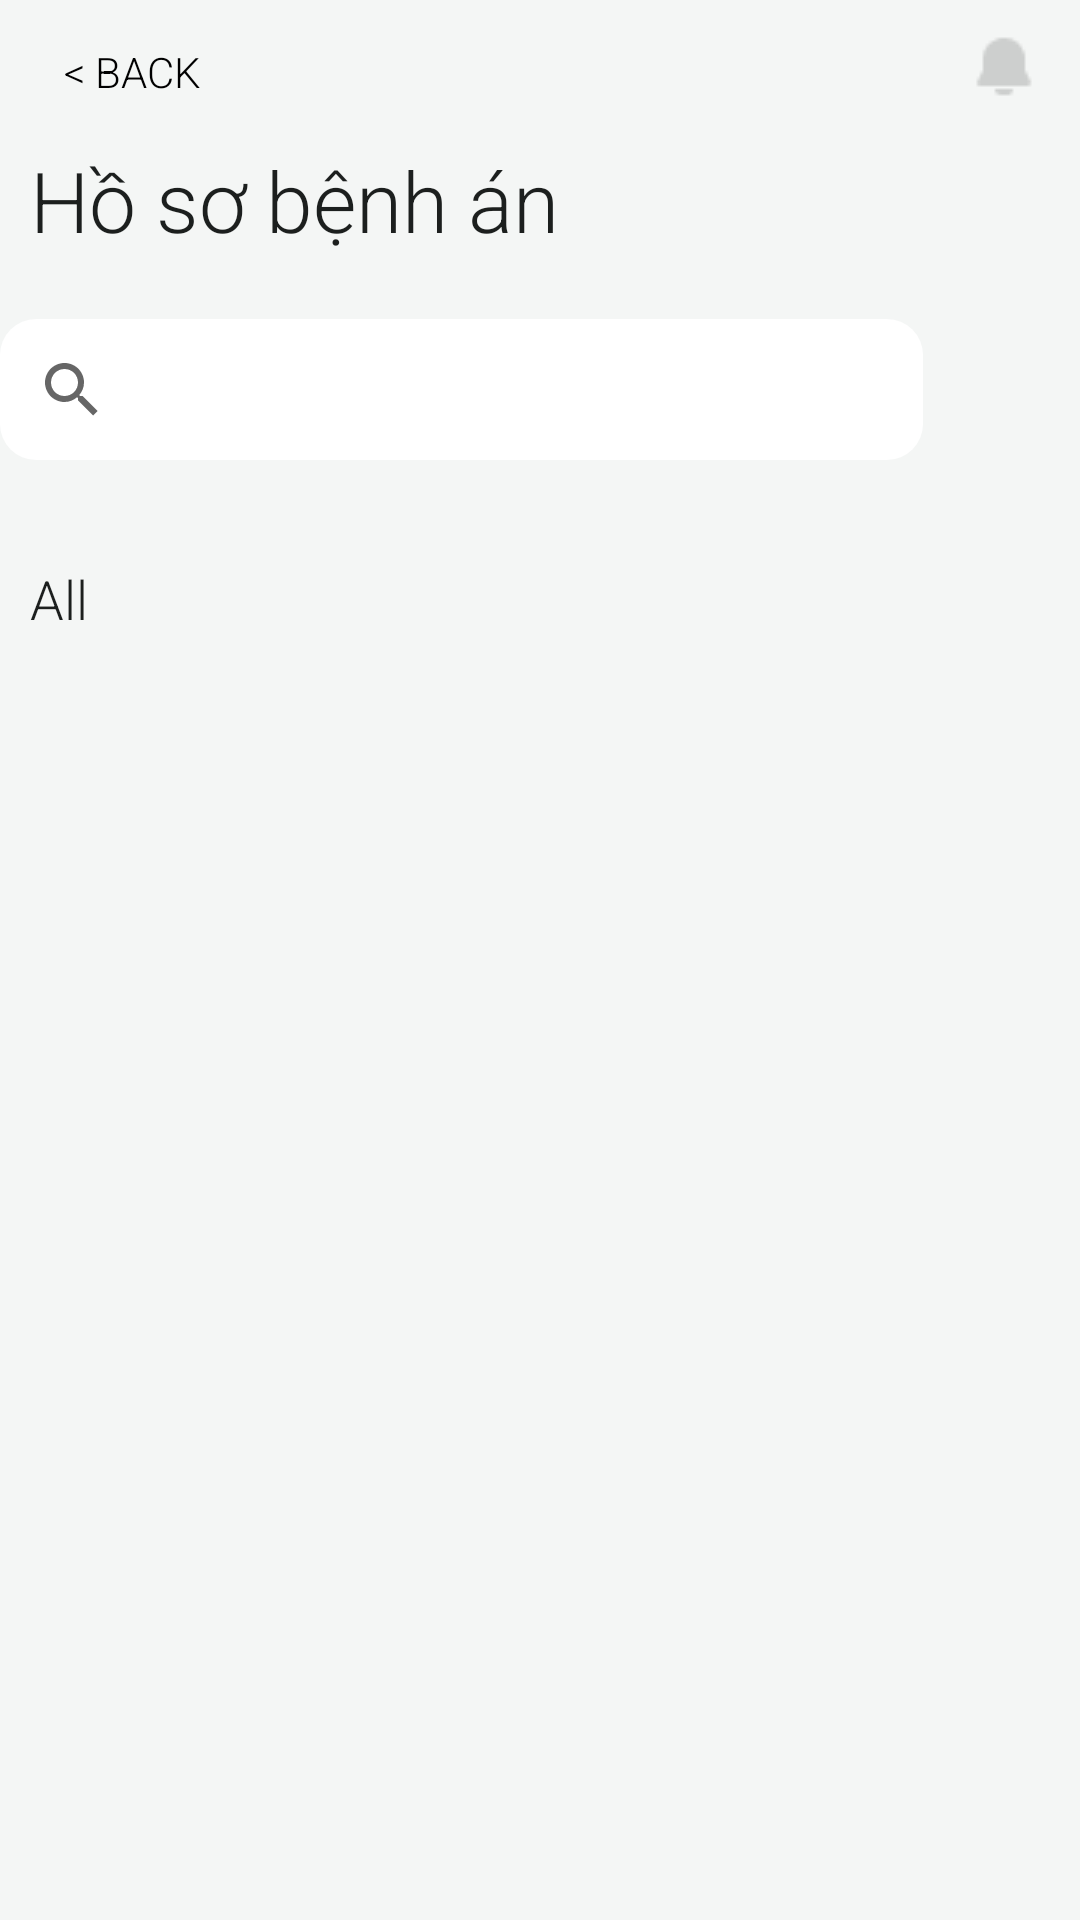

Icons on this 1080x1920 Android screen, each with its box as (x1, y1, x2, y2):
noti: (978, 38, 1030, 95)
